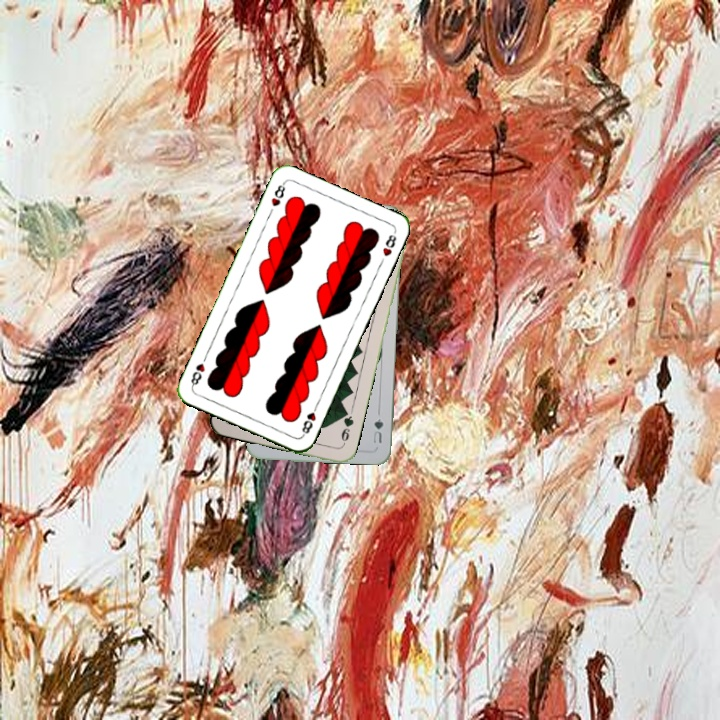G9: (337, 407, 356, 449)
GU: (370, 414, 386, 446)
H8: (298, 400, 321, 439), (267, 178, 288, 209)
